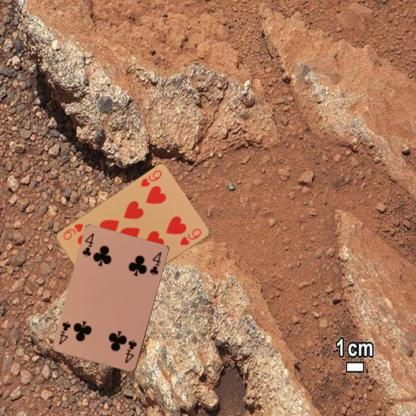4c: (80, 231, 95, 258), (123, 338, 138, 364)
9h: (137, 167, 163, 188)
